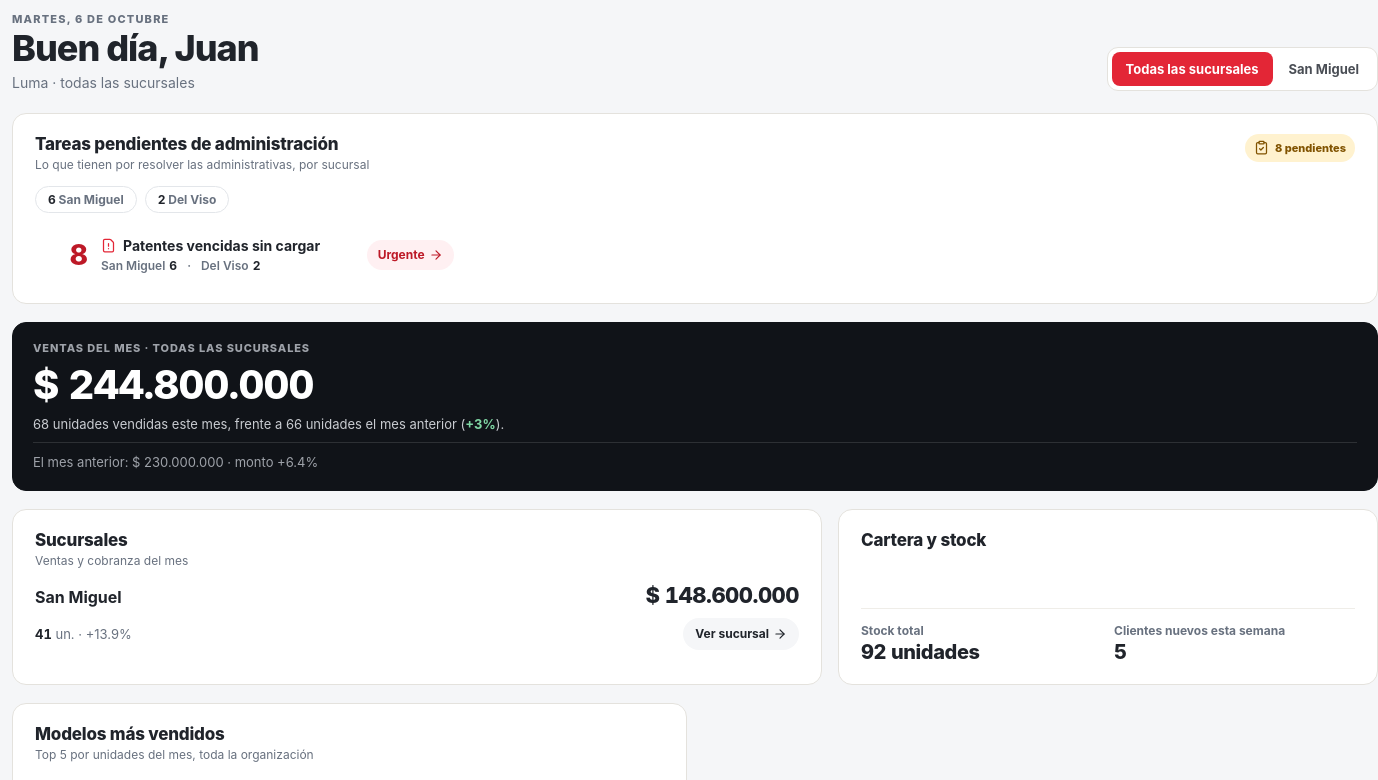
it: Inicio del administrador por sucursal › oculta lo que el rol no puede ver en una sucursal
The image size is (1378, 780).
Click the button "San Miguel" at (1324, 69), box [1274,52,1373,86]
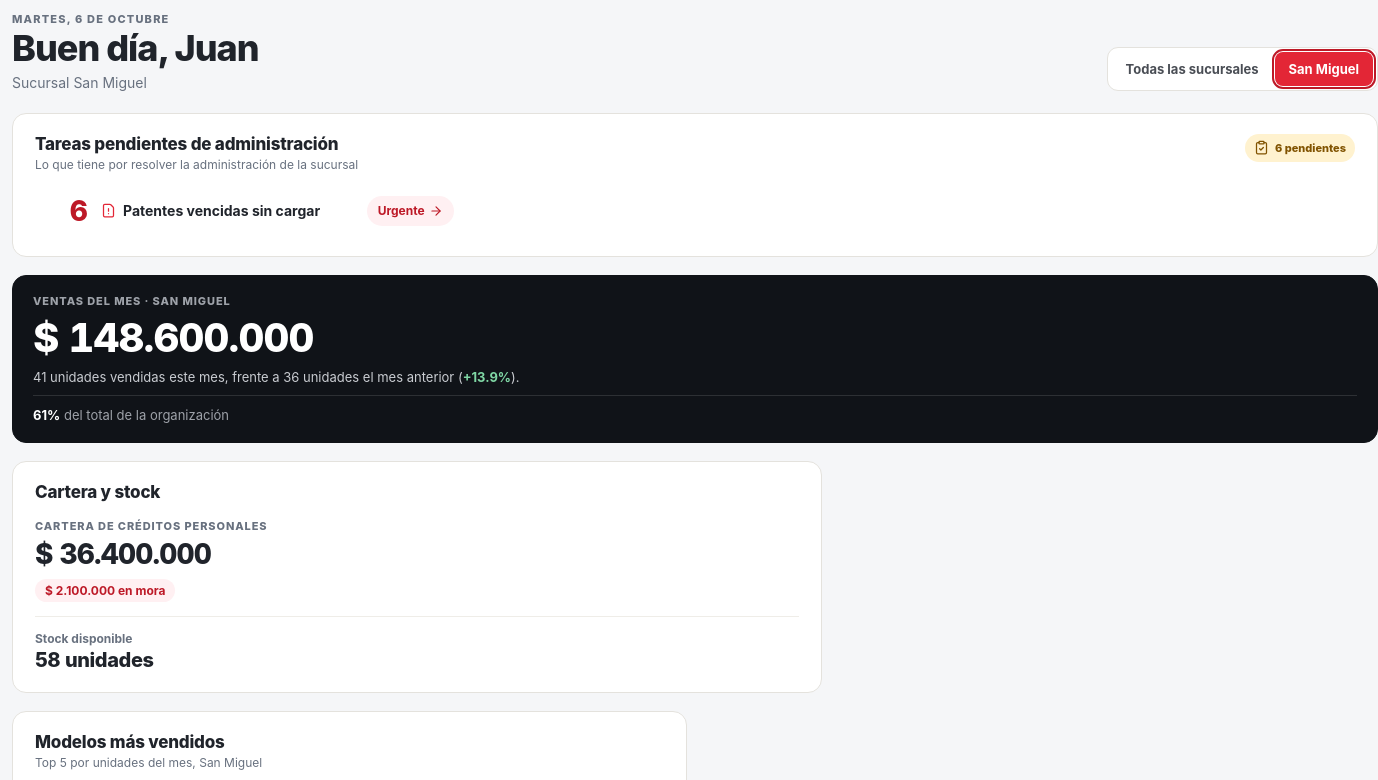
Result: the text "Stock disponible" is shown at [35,632,132,646]
